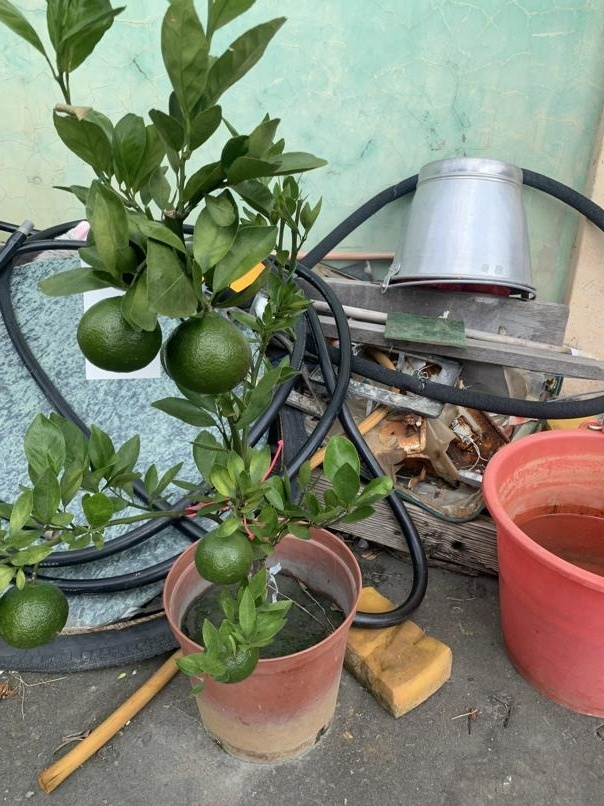Tangerine: (163, 311, 254, 397), (78, 295, 163, 376), (0, 578, 71, 649), (193, 528, 255, 587)
